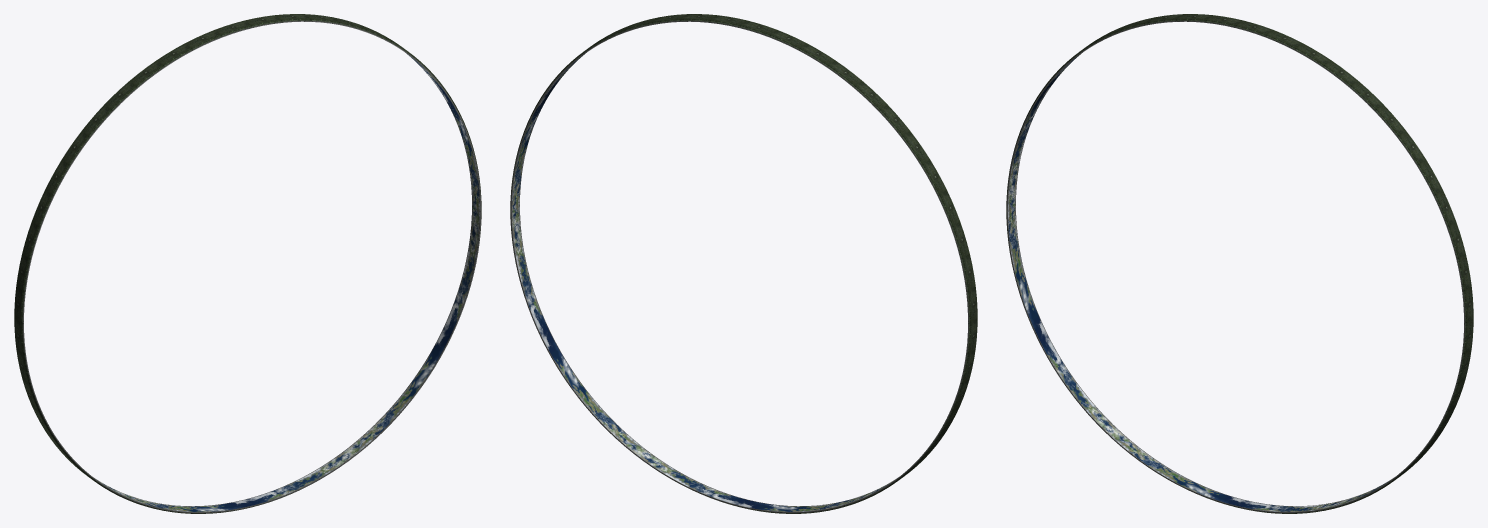
Rendered from HALO.fbx.
3 views of the same model, side by side, from view 1: azimuth 30°, elevation 25°; view 2: azimuth 150°, elevation 25°; view 3: azimuth 330°, elevation 25° (orthographic).
Parts seen in each view (by area): view 1: Object_0; view 2: Object_0; view 3: Object_0.
Part boxes in pixels (bbox=[...]): Object_0: bbox=[14, 14, 481, 513]; Object_0: bbox=[510, 14, 977, 513]; Object_0: bbox=[1006, 14, 1473, 513].
Size of the model in its own units: 3829 by 3829 by 122.
Materials: 2 (2 with a texture image).
